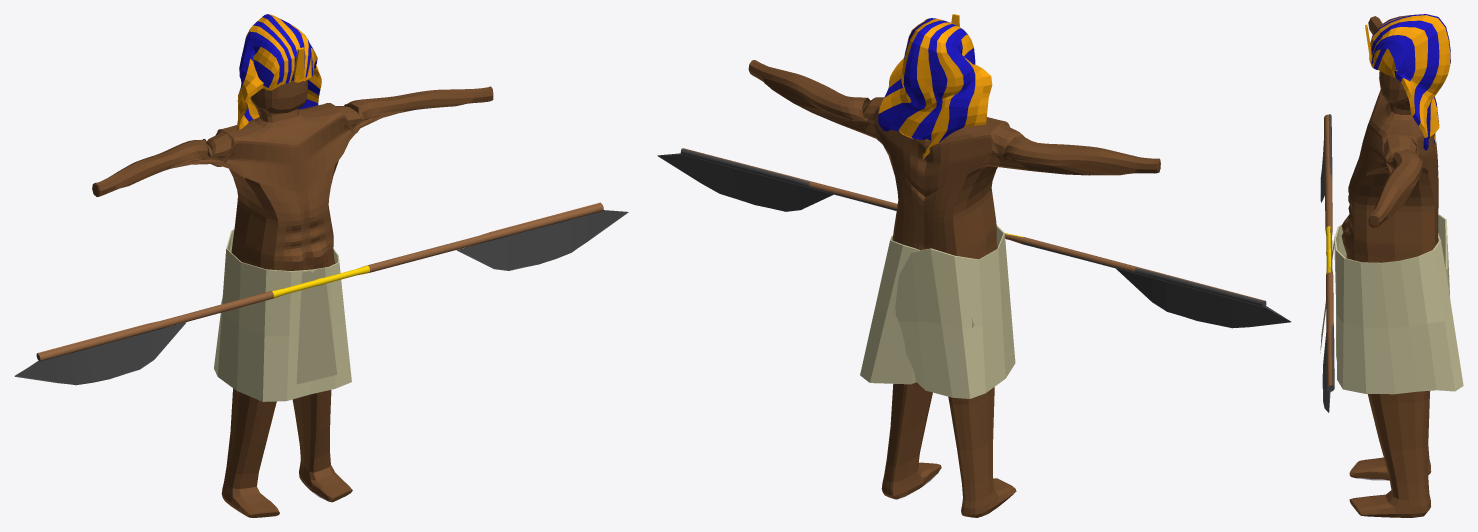
The model's file is boss.fbx.
The picture shows the model from 3 angles, left to right: view 1: azimuth 30°, elevation 25°; view 2: azimuth 150°, elevation 25°; view 3: azimuth 270°, elevation 25°; orthographic projection. The views are drawn at different scales.
Visible parts, largest first — view 1: Cube, Cylinder, Plane, Plane.002, Plane.001; view 2: Cube, Plane, Cylinder, Plane.002; view 3: Cube, Plane, Plane.002, Cylinder.
Part boxes in pixels (x1,y1,x2,y2): Cube: [92, 80, 493, 517]; Cylinder: [14, 202, 628, 385]; Plane: [214, 229, 351, 401]; Plane.002: [236, 14, 321, 129]; Plane.001: [296, 268, 337, 384]; Cube: [748, 60, 1160, 517]; Plane: [860, 225, 1015, 398]; Cylinder: [657, 148, 1291, 328]; Plane.002: [878, 18, 992, 159]; Cube: [1341, 16, 1438, 517]; Plane: [1334, 214, 1463, 394]; Plane.002: [1369, 14, 1450, 150]; Cylinder: [1320, 114, 1334, 412].
Bounding box in the file's own units: 487 × 355 × 95.57.
